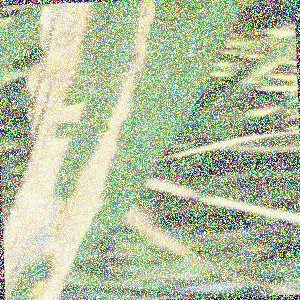Leaf_Blast: (26, 3, 164, 249)
